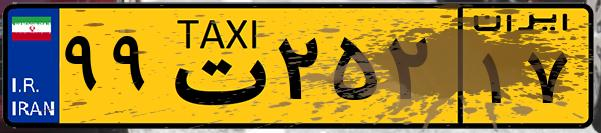1: (475, 38, 525, 113)
2: (270, 28, 330, 110), (385, 28, 445, 110)
5: (330, 28, 385, 110)
7: (525, 38, 570, 115)
9: (57, 26, 110, 100), (110, 28, 158, 98)
ت: (158, 12, 270, 120)
